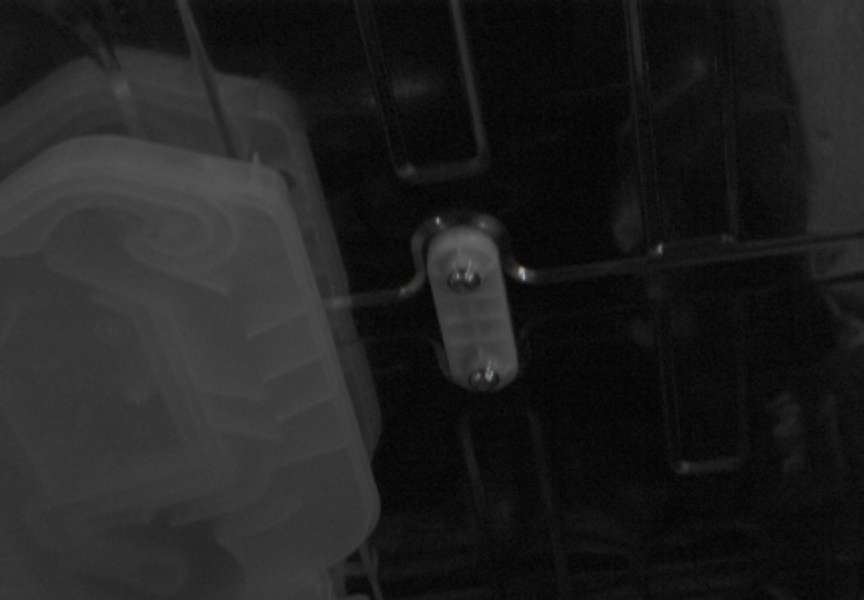screw: (447, 268, 482, 293), (469, 366, 500, 392)
